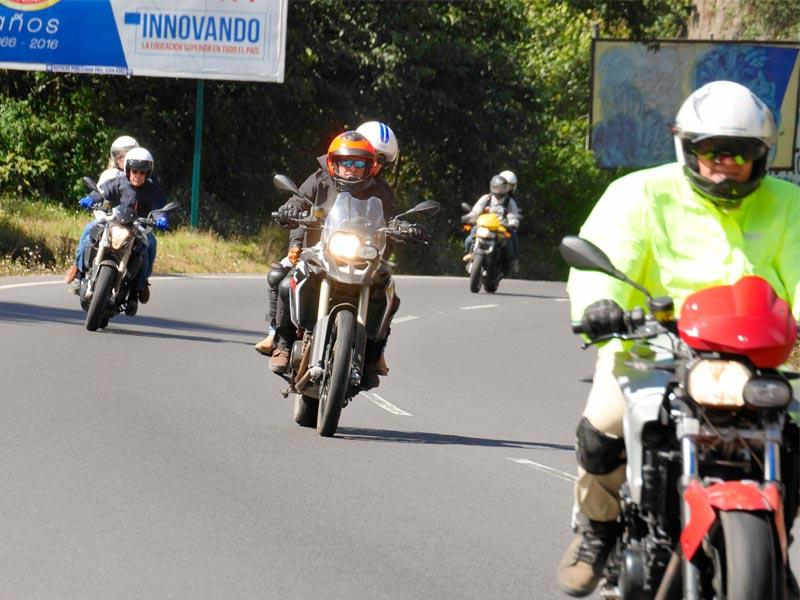helmet: (674, 81, 778, 208), (326, 131, 377, 194), (355, 120, 397, 179), (123, 146, 155, 187), (111, 135, 140, 171), (489, 175, 510, 200)
